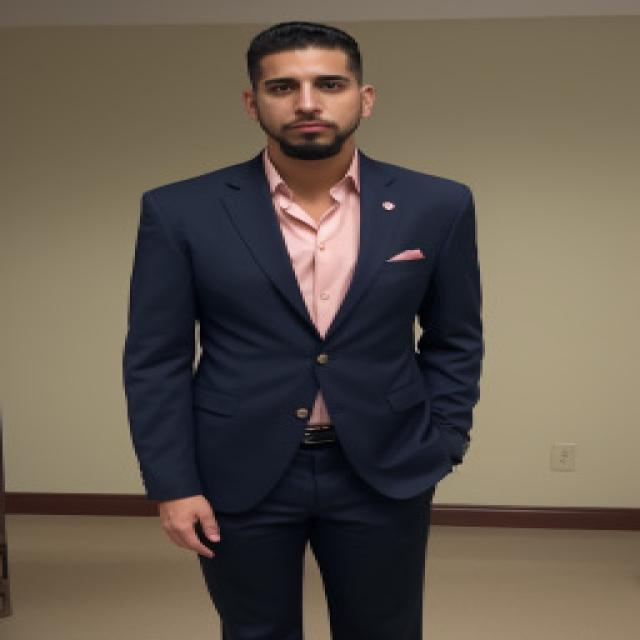Ai human 2: (110, 14, 500, 640)
